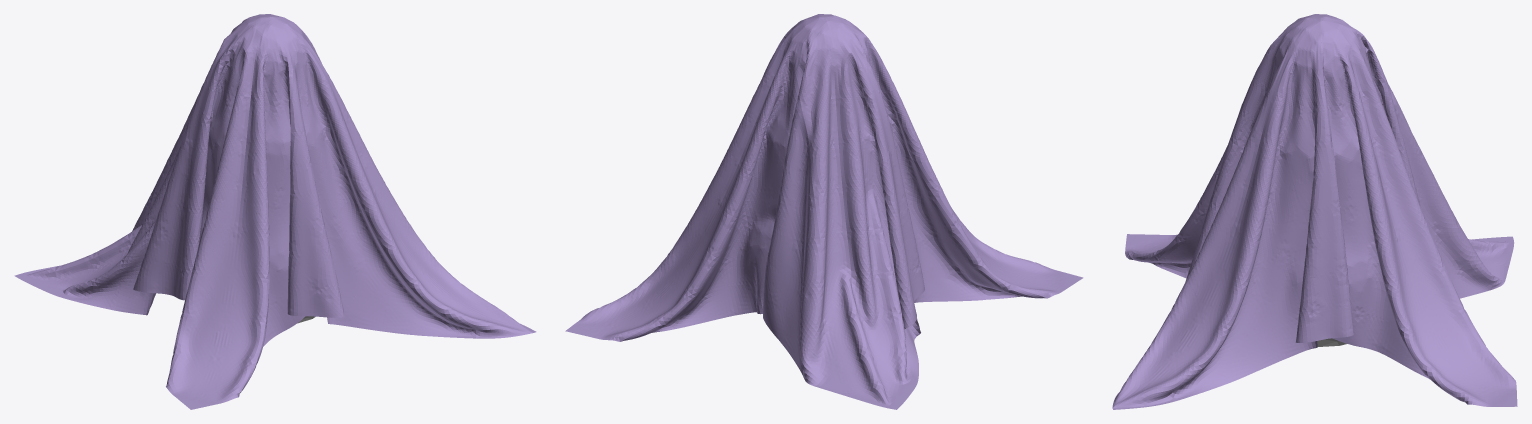
File: level_4.glb
3 views of the same model, side by side, from view 1: azimuth 30°, elevation 25°; view 2: azimuth 150°, elevation 25°; view 3: azimuth 270°, elevation 25° (orthographic). The views are drawn at different scales.
Parts seen in each view (by area): view 1: world; view 2: world; view 3: world.
Part boxes in pixels (x1,y1,x2,y2): world: (14,14,536,409); world: (565,14,1083,409); world: (1112,14,1517,409).
Bounding box in the file's own units: 0.3682 × 0.2952 × 0.3584.
